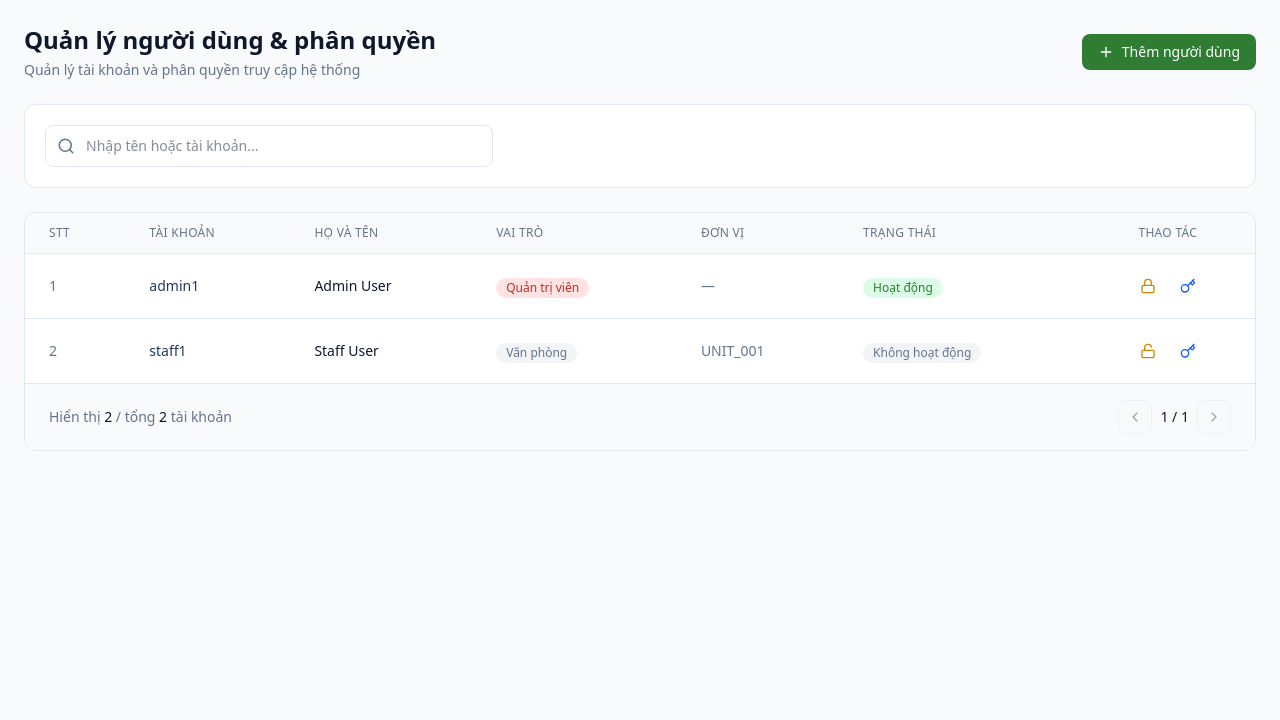
Test: UserManagementPage › shows reset password modal with temp password
Click the button with test id "^reset-password-" at [1188, 286], box [1172,270,1204,302]
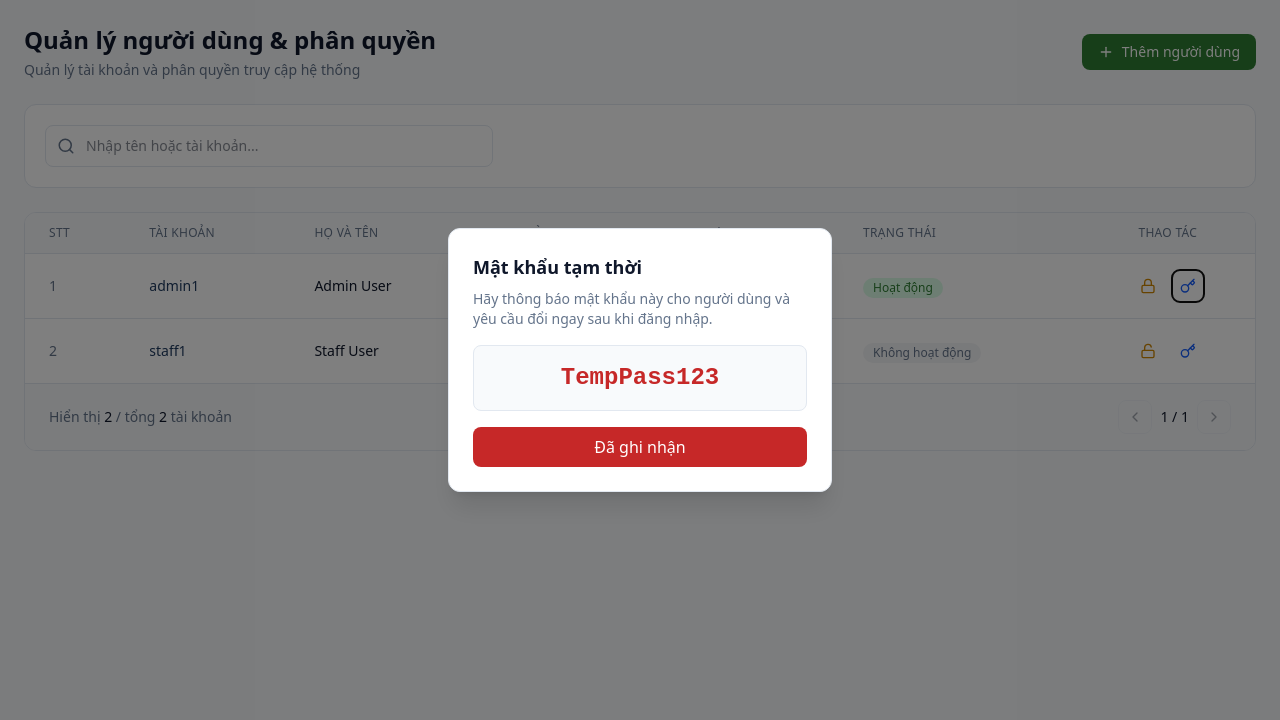
Check: the element with test id "reset-password-modal" is shown
Check: the text with test id "temp-password" reads "TempPass123", box [561,364,719,391]
